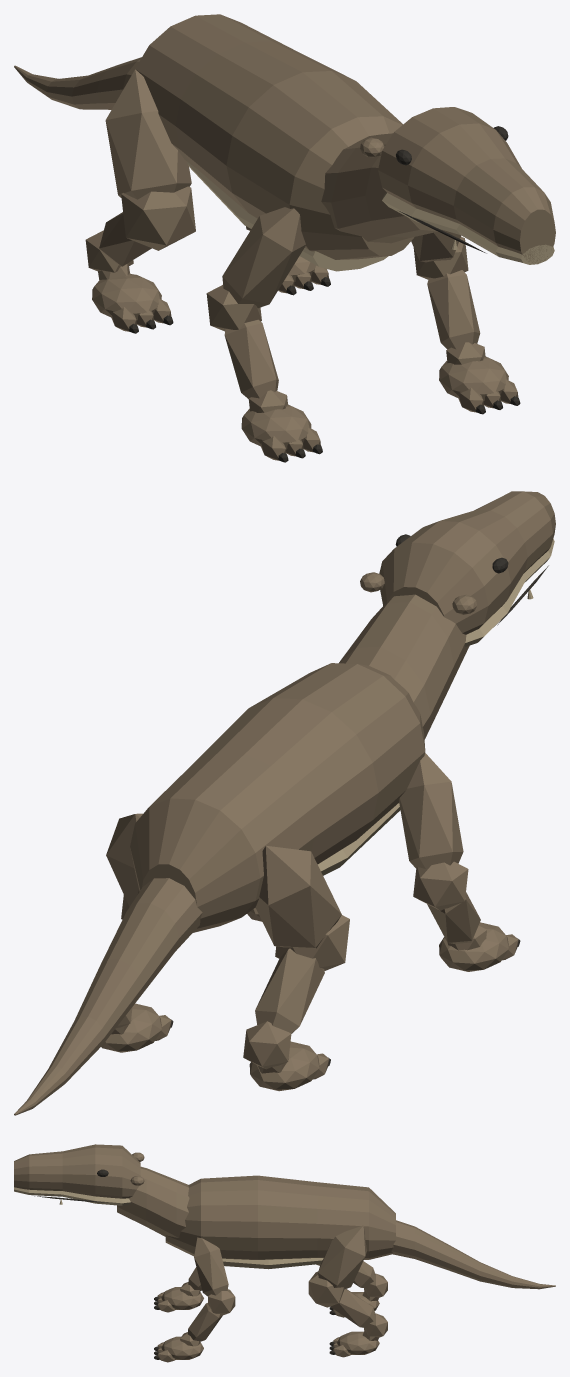
3 views of the same model, one above another, from view 1: azimuth 30°, elevation 25°; view 2: azimuth 150°, elevation 25°; view 3: azimuth 270°, elevation 25° (orthographic). The views are drawn at different scales.
Parts seen in each view (by area): view 1: surface_umber_gray_coat, surface_subdued_tan_underside, surface_dark_eye_nostril_claws; view 2: surface_umber_gray_coat, surface_subdued_tan_underside; view 3: surface_umber_gray_coat, surface_subdued_tan_underside, surface_dark_eye_nostril_claws.
Boxes of the visible parts, left/top/right/bottom form: surface_umber_gray_coat: left=14, top=14, right=555, bottom=460; surface_subdued_tan_underside: left=187, top=162, right=554, bottom=271; surface_dark_eye_nostril_claws: left=129, top=126, right=520, bottom=462; surface_umber_gray_coat: left=14, top=491, right=555, bottom=1115; surface_subdued_tan_underside: left=317, top=539, right=554, bottom=875; surface_umber_gray_coat: left=14, top=1144, right=555, bottom=1362; surface_subdued_tan_underside: left=14, top=1187, right=323, bottom=1269; surface_dark_eye_nostril_claws: left=34, top=1169, right=335, bottom=1359.
Bounding box in the file's own units: 0.2812 × 0.378 × 1.
